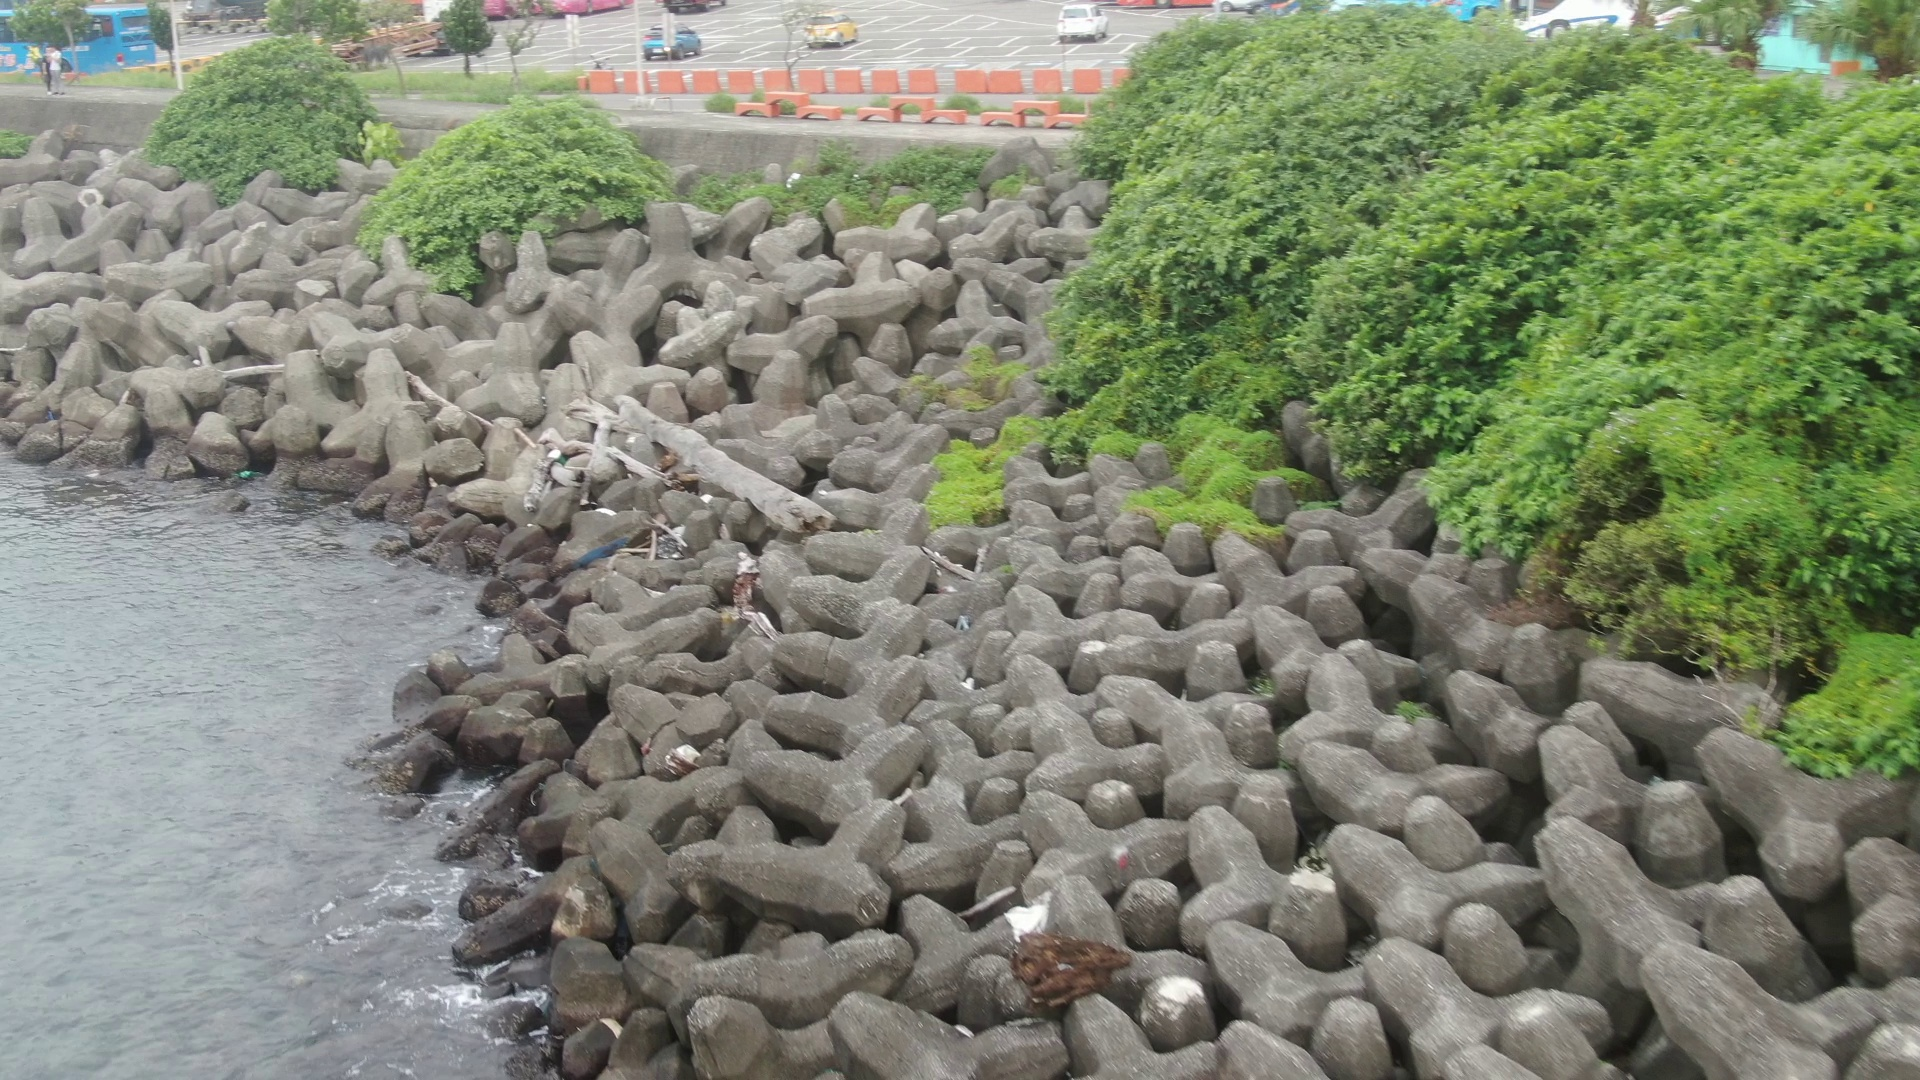garbage: (554, 520, 632, 585), (634, 517, 698, 564), (223, 465, 268, 495), (545, 440, 570, 468), (785, 170, 802, 193)
